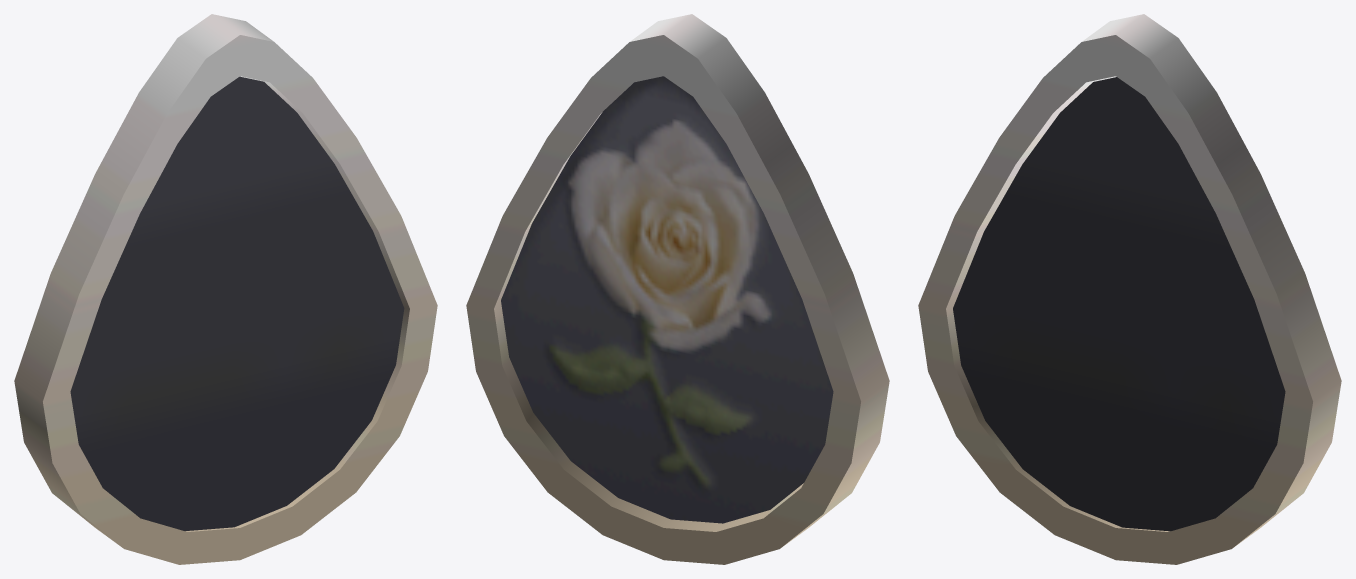
File: static.ico.obj
3 renders of one model, left to right at view 1: azimuth 30°, elevation 25°; view 2: azimuth 150°, elevation 25°; view 3: azimuth 330°, elevation 25°, orthographic.
Size of the model in its own units: 3.26 by 4.14 by 0.4067.
Materials: 1 (1 with a texture image).
